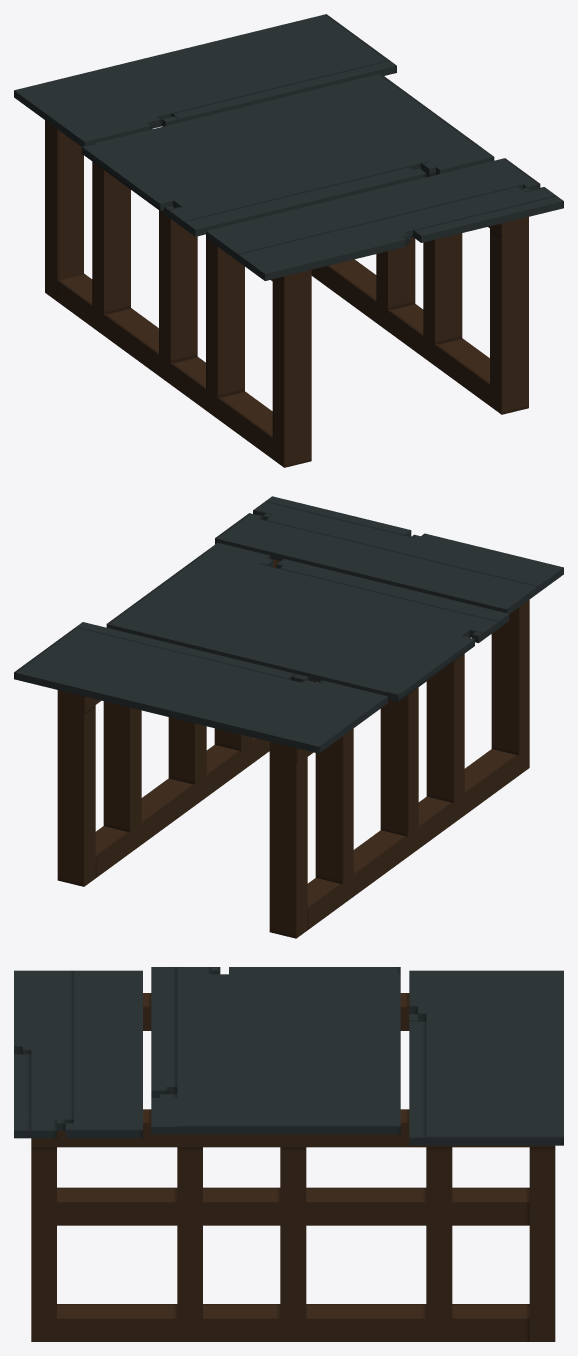
File: stolik_obrad.dae
The picture shows the model from 3 angles, top to bottom: view 1: azimuth 30°, elevation 25°; view 2: azimuth 150°, elevation 25°; view 3: azimuth 270°, elevation 25°; orthographic projection. The views are drawn at different scales.
Parts seen in each view (by area): view 1: Content; view 2: Content; view 3: Content.
Boxes of the visible parts, left/top/right/bottom form: Content: left=14, top=14, right=563, bottom=467; Content: left=14, top=496, right=563, bottom=938; Content: left=14, top=967, right=563, bottom=1341.
Size of the model in its own units: 47 by 29 by 64.
1 material, 1 textured.
